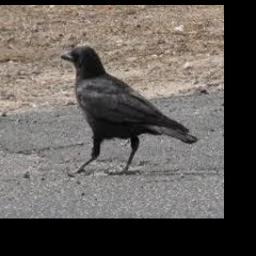Crow: (61, 45, 198, 177)
